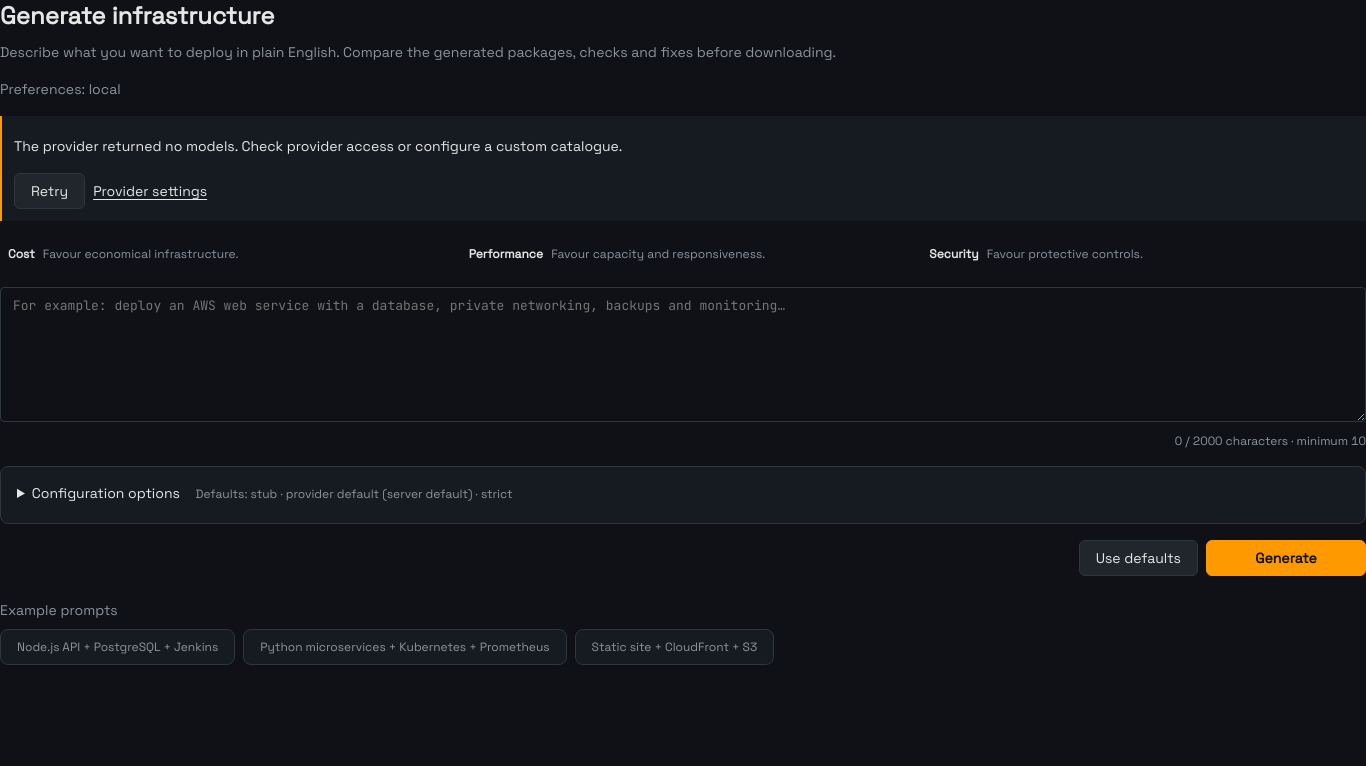
Test: FR-UI-01 configuration starts collapsed and shows actual server defaults and experimental guidance
Check: the text "Defaults: stub · provider default (server default) · strict" is shown, box [196,486,512,502]
Step 1. Click the heading "Configuration options" → click(272, 493), box [32,484,512,502]
(page scrolled)
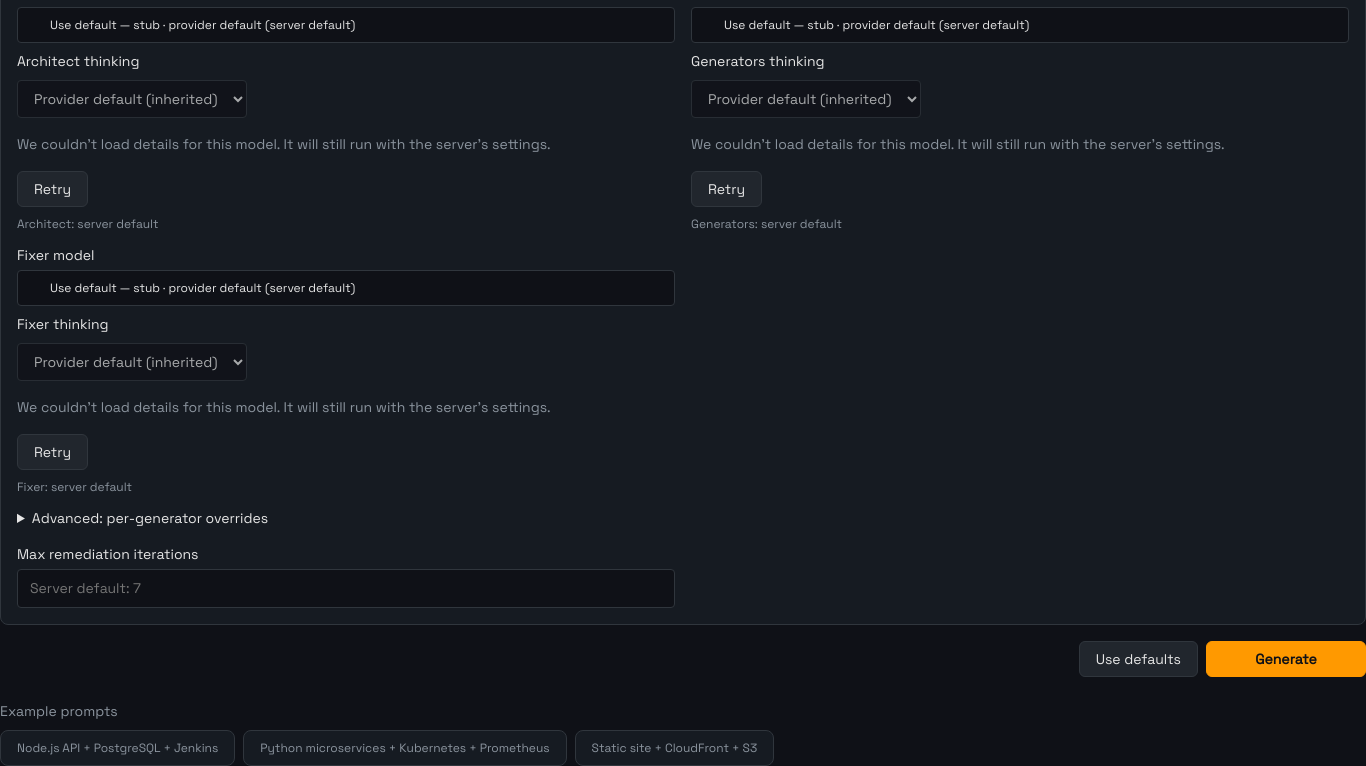
Check: the element "Use defaults" is shown, box [1079,641,1198,677]
Check: the number field with placeholder "Server default: 7" is shown, box [17,569,675,608]
